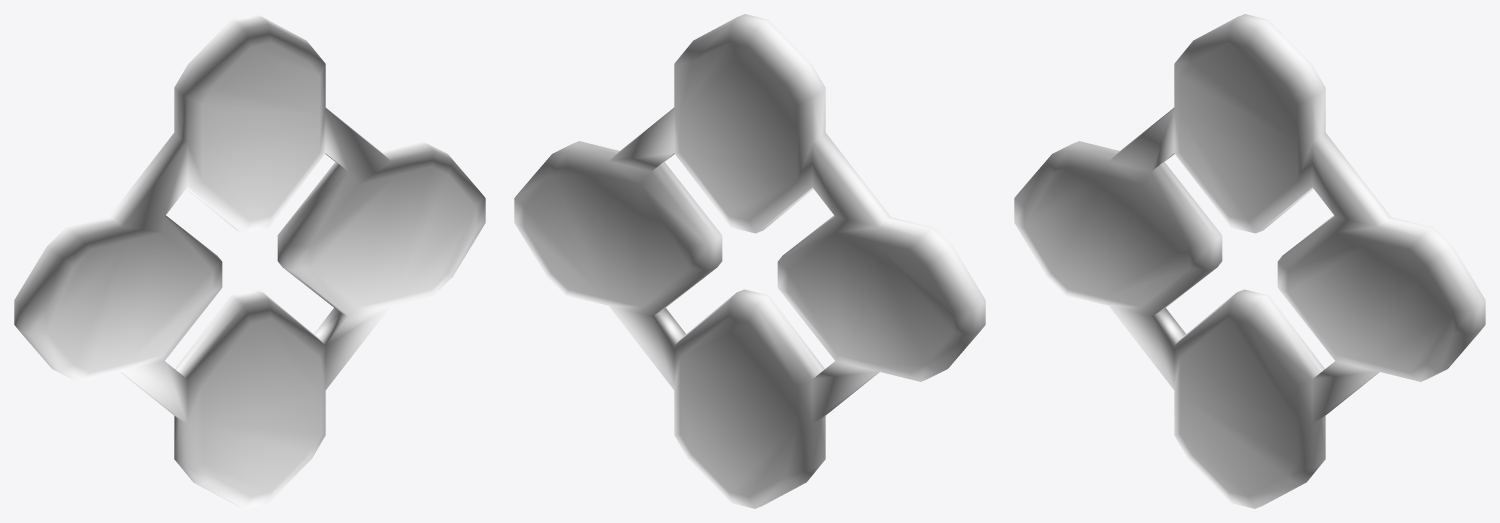
The model's file is island.ico.obj.
The picture shows the model from 3 angles, left to right: view 1: azimuth 30°, elevation 25°; view 2: azimuth 150°, elevation 25°; view 3: azimuth 330°, elevation 25°; orthographic projection.
Bounding box in the file's own units: 4.4 × 4.4 × 0.3691.
1 material, 1 textured.
